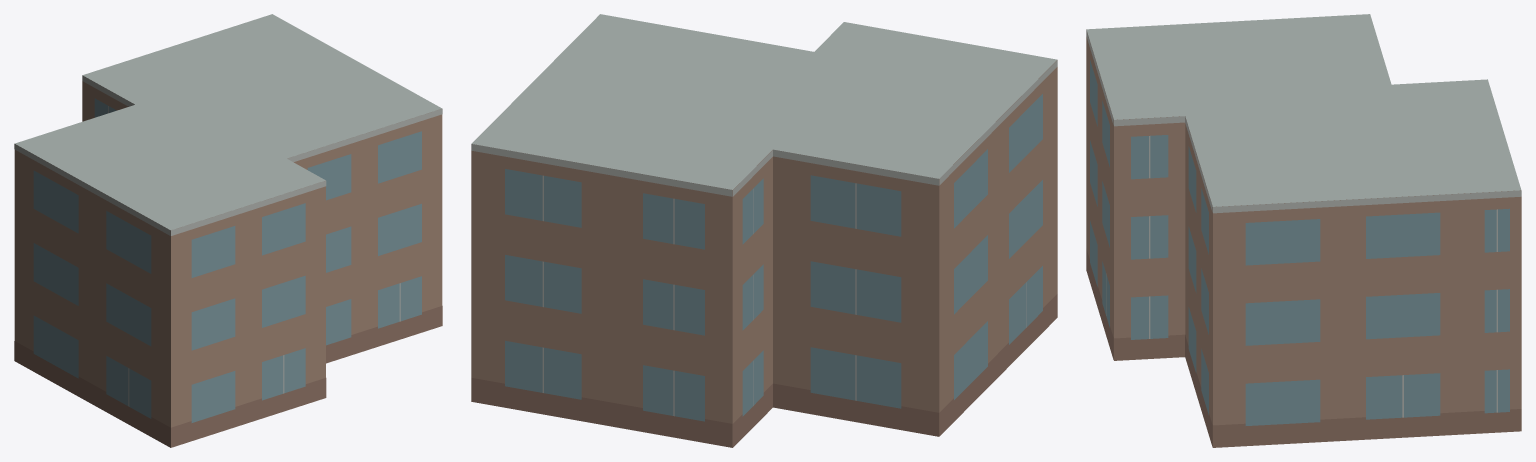
File: survey-upis-32467240.glb
3 renders of one model, left to right at view 1: azimuth 30°, elevation 25°; view 2: azimuth 150°, elevation 25°; view 3: azimuth 270°, elevation 25°, orthographic. The views are drawn at different scales.
Visible parts, largest first — view 1: survey-upis-32467240.tmp; view 2: survey-upis-32467240.tmp; view 3: survey-upis-32467240.tmp.
Boxes of the visible parts, <box> form: survey-upis-32467240.tmp: <box>14,14,442,447</box>; survey-upis-32467240.tmp: <box>471,14,1057,447</box>; survey-upis-32467240.tmp: <box>1086,14,1521,447</box>.
Bounding box in the file's own units: 15.72 × 9.15 × 14.99.
